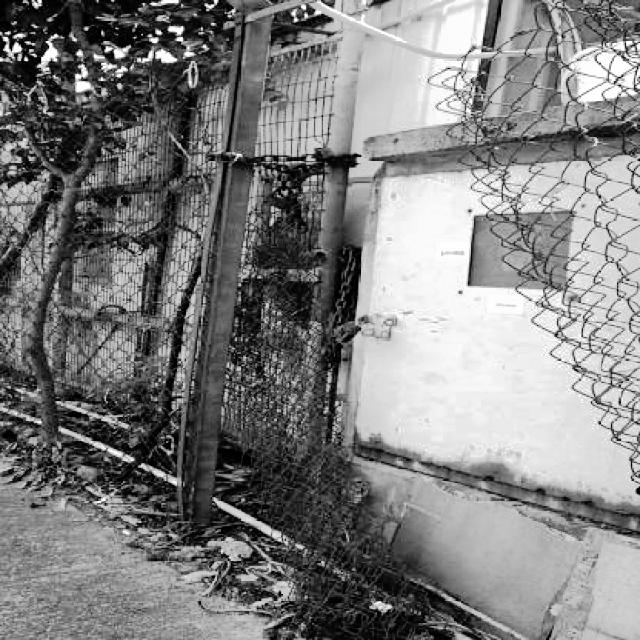anomaly-fence: (187, 37, 640, 640), (346, 111, 346, 122)
